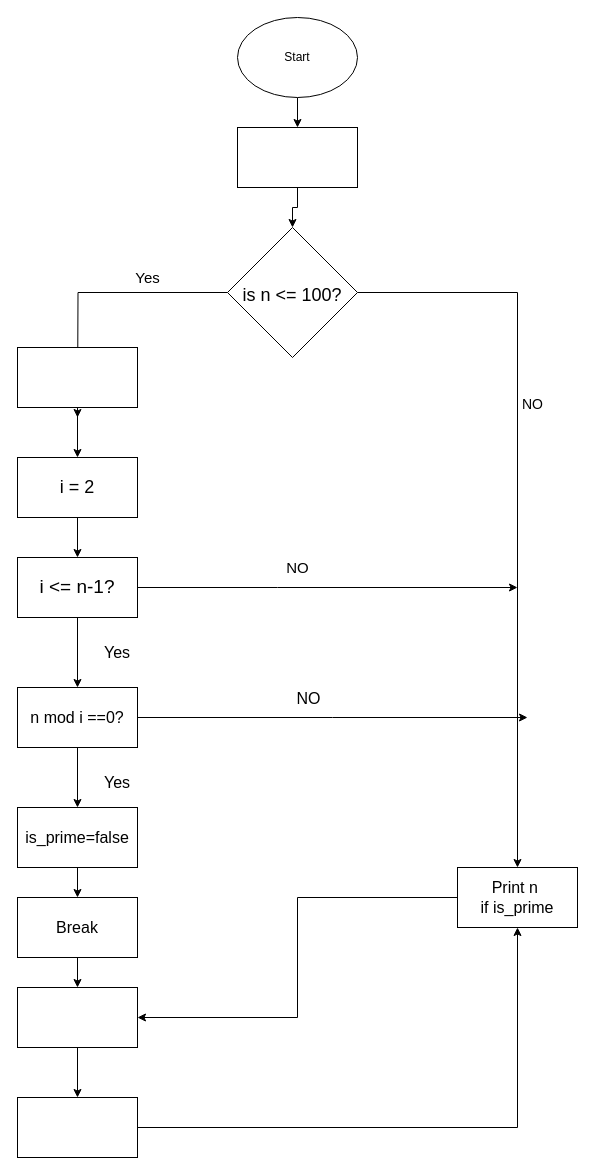
Some shapes in this 595 by 1175 pixel diagram are drawn without their labels. Each missing label, with the centre of its shape:
i = i +1: (x=77, y=1017)
is_prime = true: (x=77, y=377)
N = 2: (x=297, y=157)
n = n +1: (x=77, y=1127)
